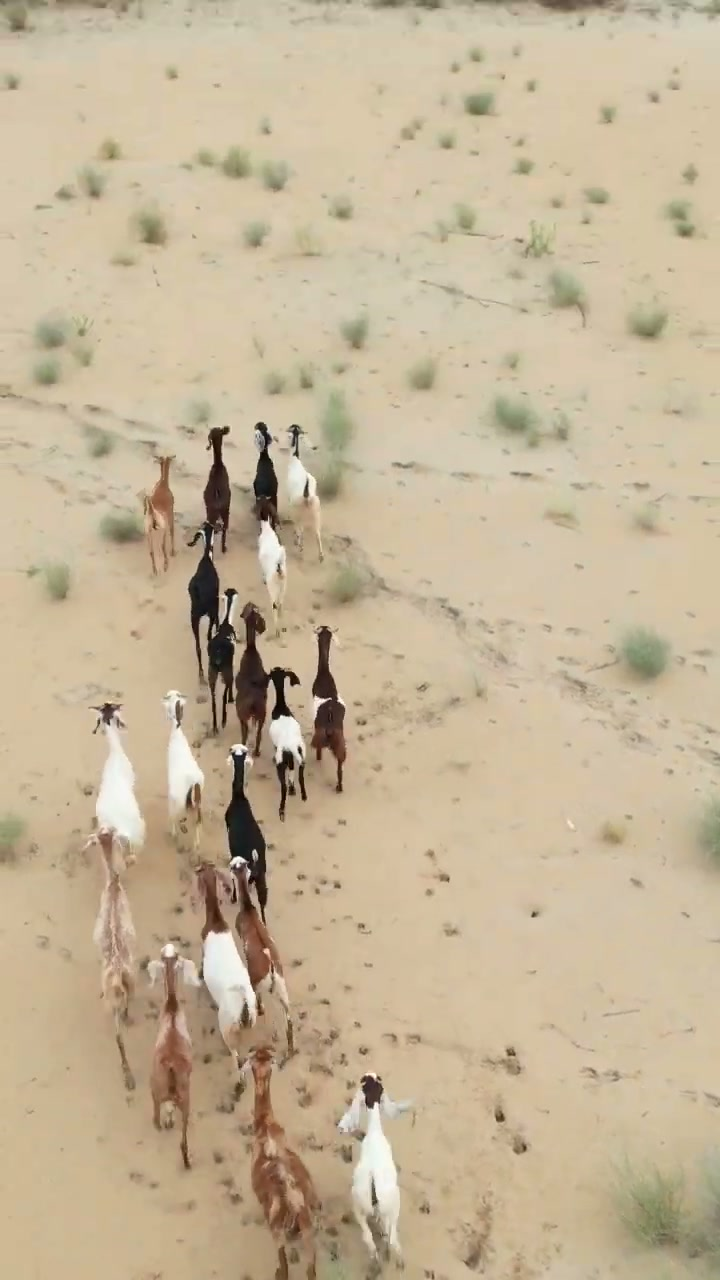animal_foot_print: (430, 801, 582, 1279), (252, 771, 376, 1247)
